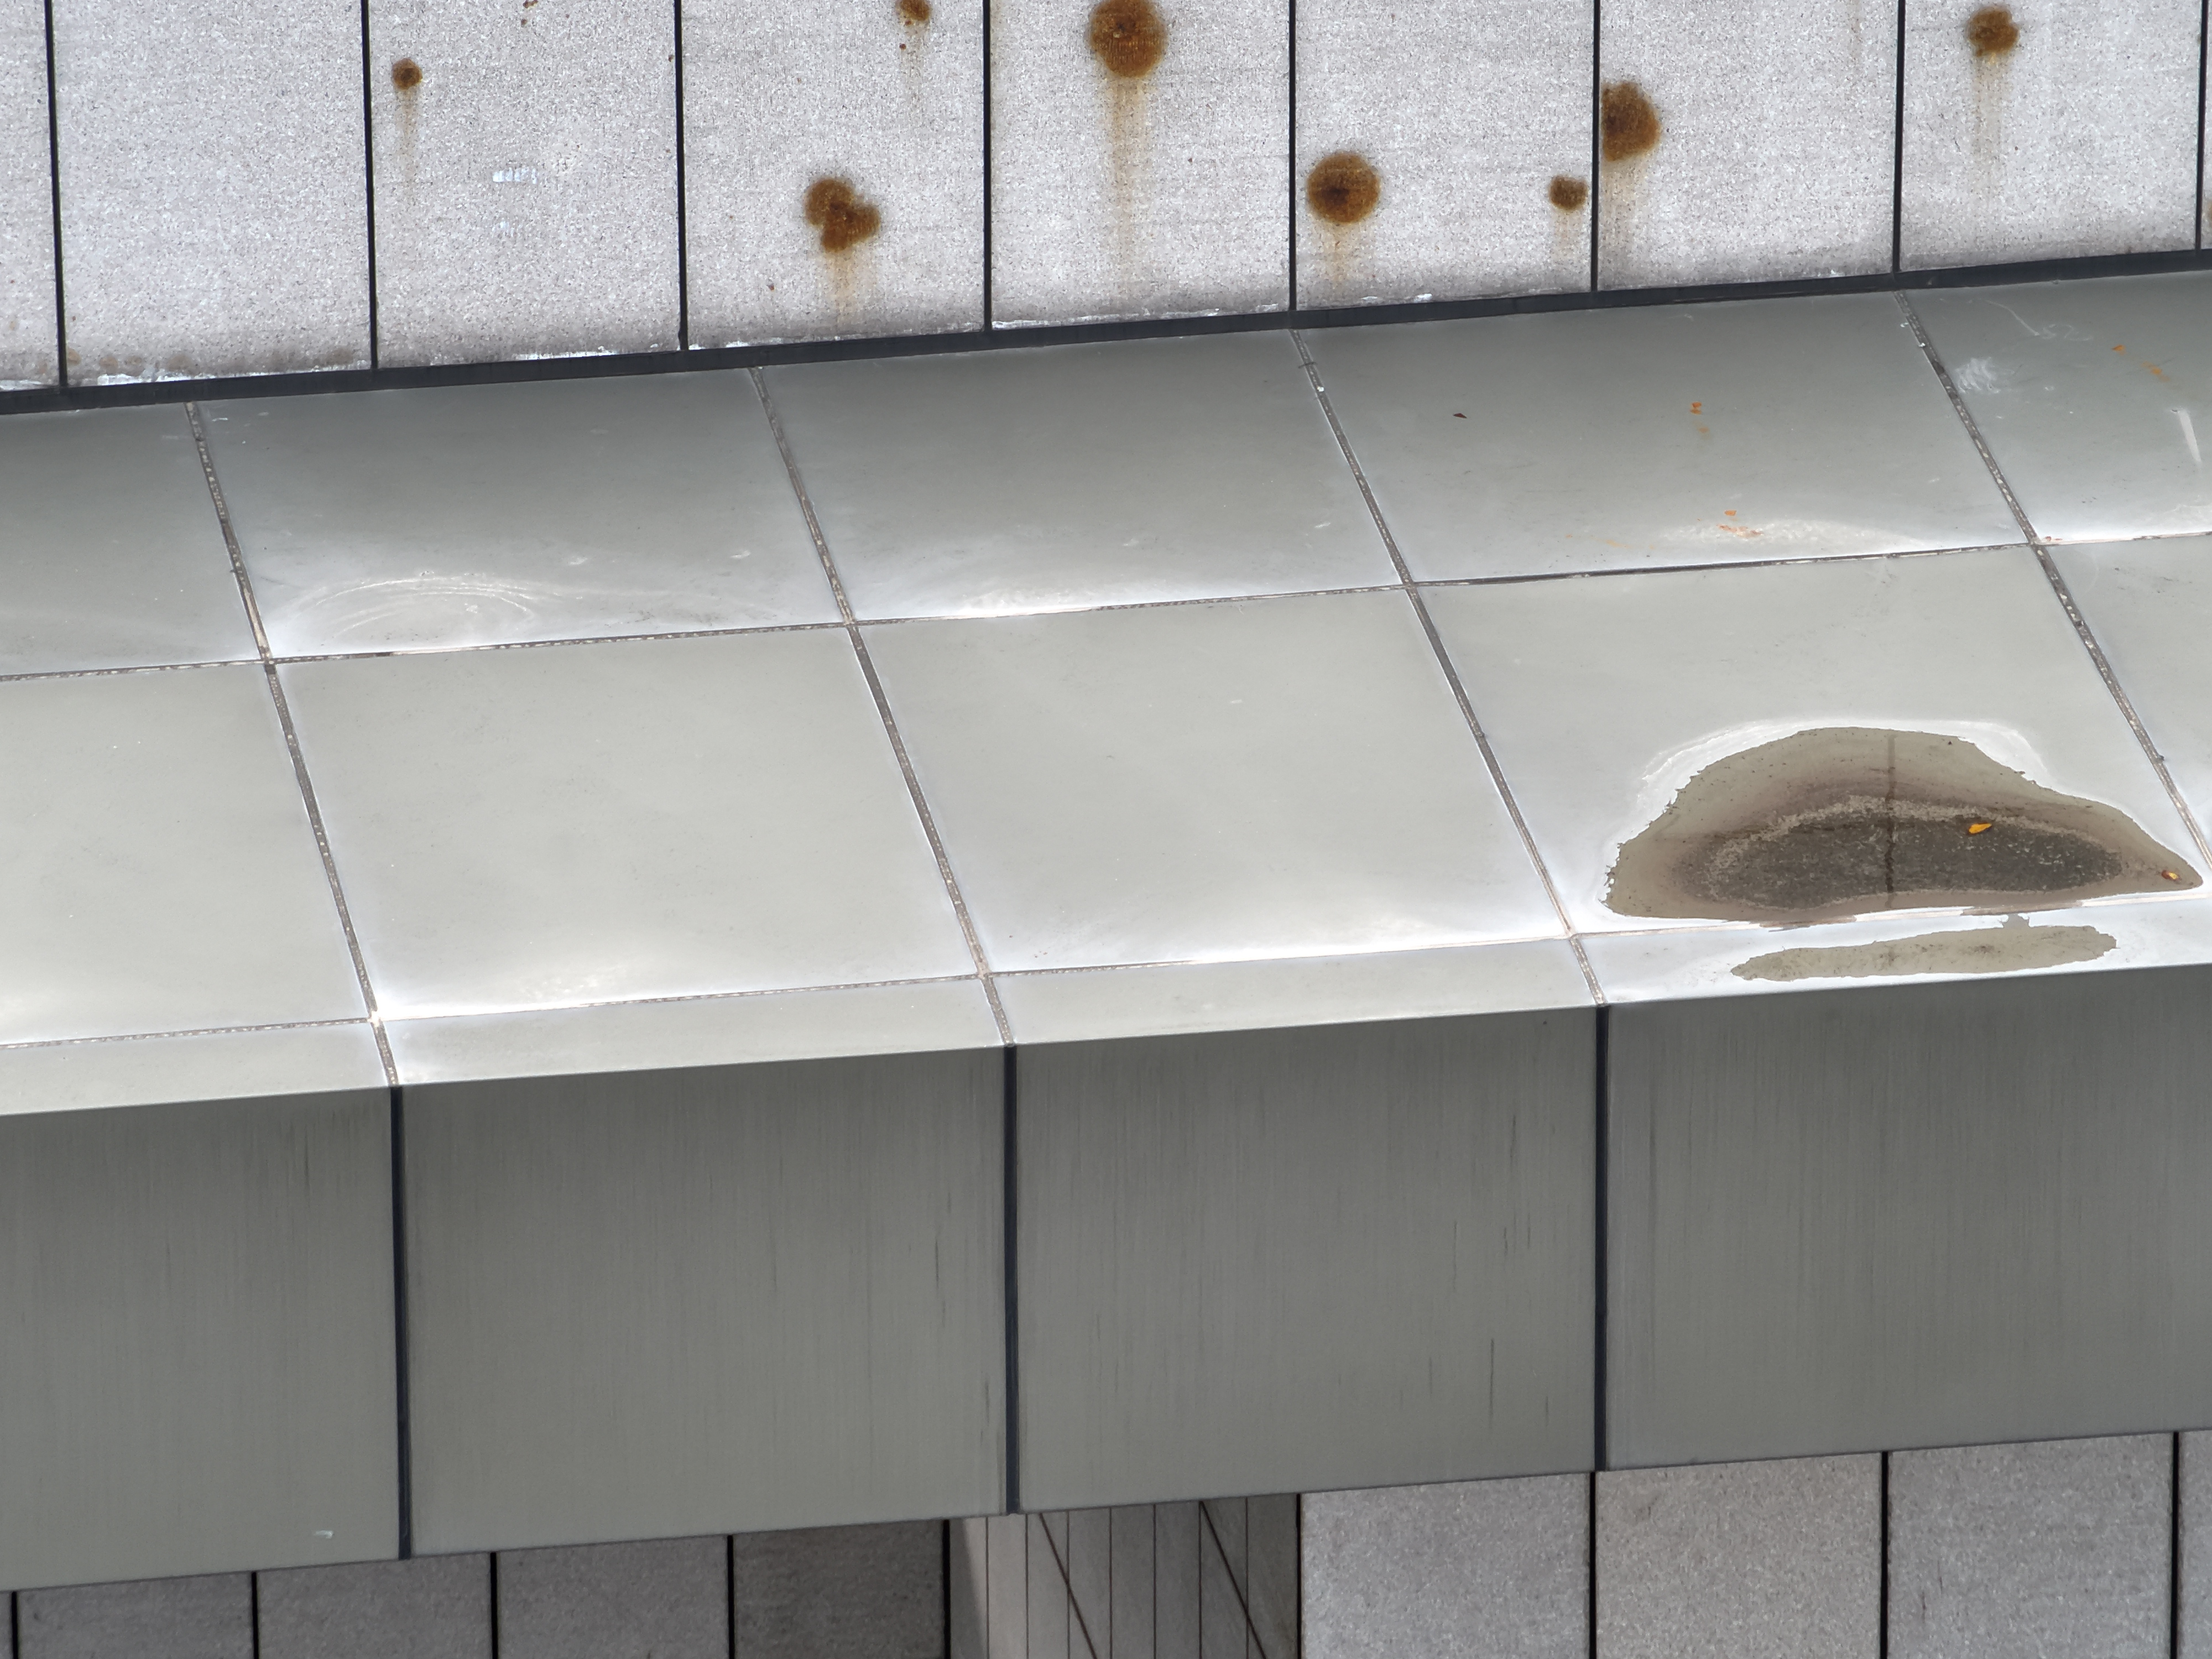spalling: (75, 359, 368, 392), (993, 308, 1251, 328), (510, 347, 627, 364), (686, 335, 761, 356), (489, 167, 536, 183)
spot: (1085, 2, 1163, 75), (805, 181, 881, 251), (1305, 152, 1376, 218), (1604, 78, 1646, 155), (1968, 12, 2024, 56), (1548, 176, 1585, 206), (392, 59, 423, 87), (897, 2, 932, 26)
